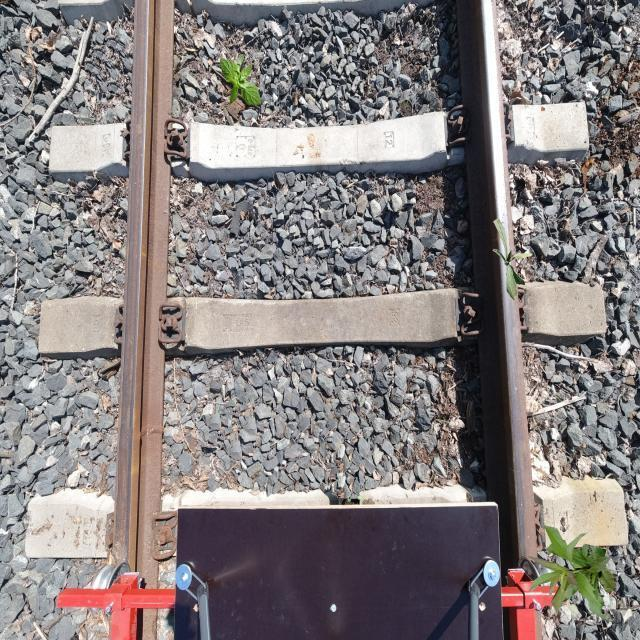Plant: (527, 525, 616, 622), (493, 218, 533, 300), (220, 54, 262, 108)
